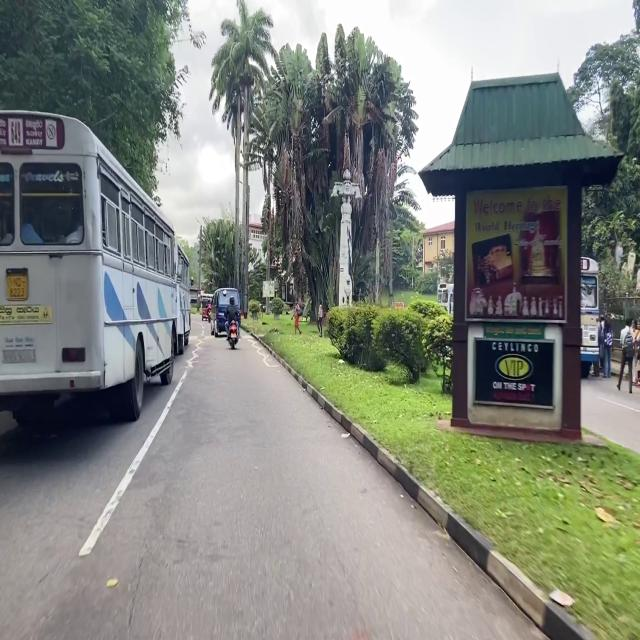bus: (0, 110, 190, 423), (581, 257, 598, 377), (176, 245, 190, 353), (438, 280, 453, 313)
motorcycle: (228, 321, 237, 349), (207, 311, 210, 323)
person: (617, 319, 634, 393), (224, 297, 240, 335), (603, 318, 613, 378), (634, 322, 640, 386), (598, 316, 604, 370), (293, 299, 301, 334), (317, 302, 323, 337), (207, 302, 211, 311)
three wheeler: (202, 295, 211, 320)
van: (210, 287, 240, 337)
